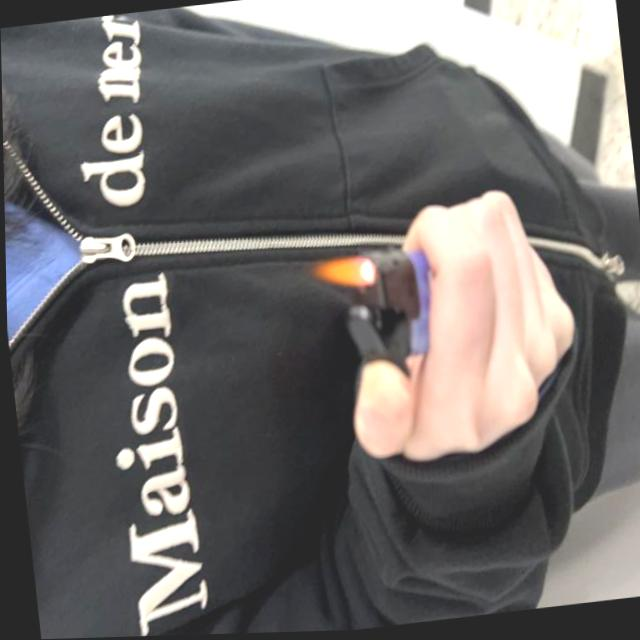helmet: (307, 254, 376, 294)
